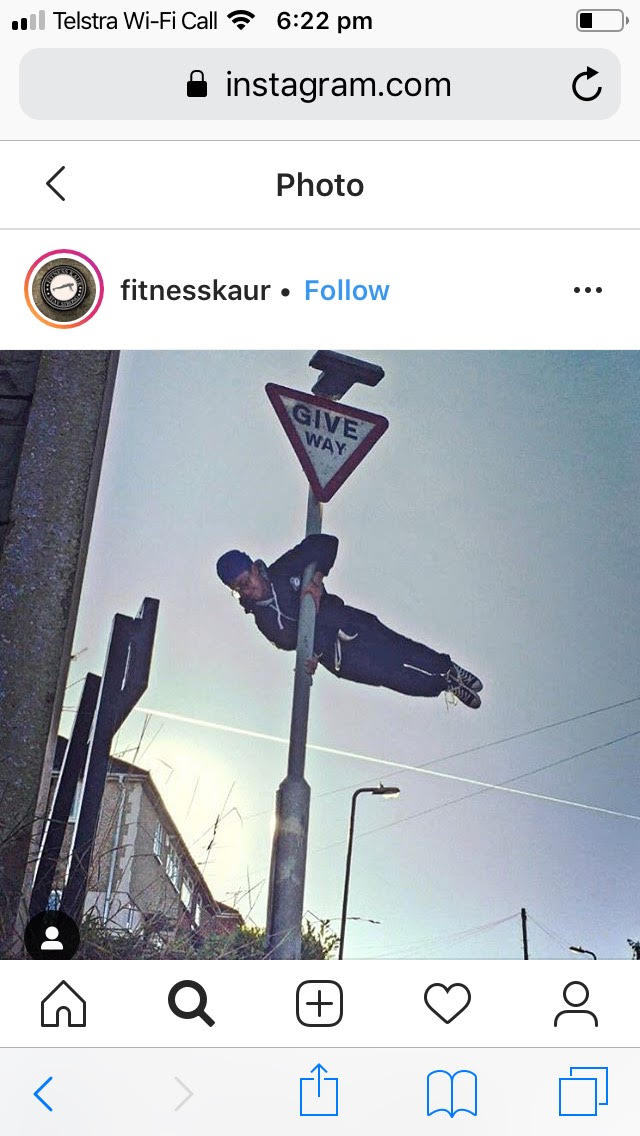giveway: (264, 379, 393, 509), (265, 378, 336, 512), (324, 397, 392, 501), (303, 386, 356, 513)
